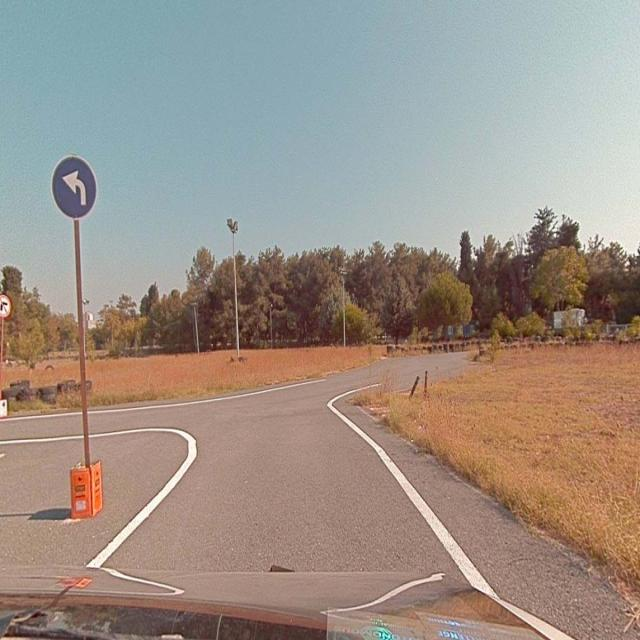sagadonulmez: (1, 294, 12, 315)
sol: (52, 154, 99, 213)
